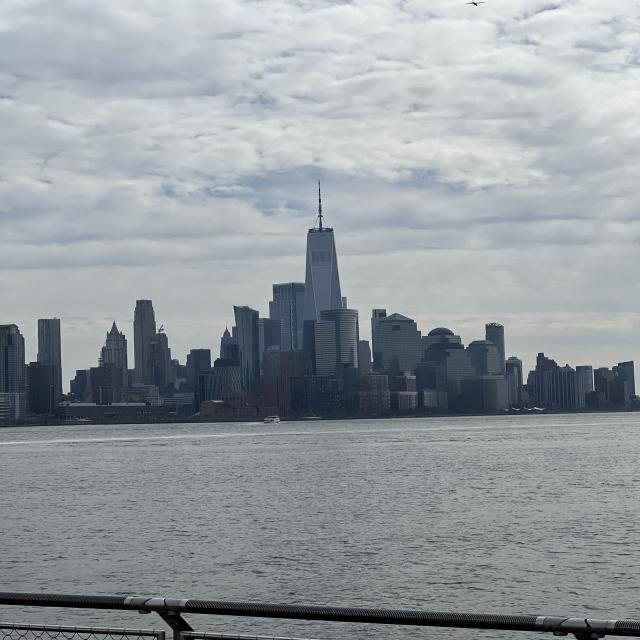WTC: (303, 183, 343, 310)
